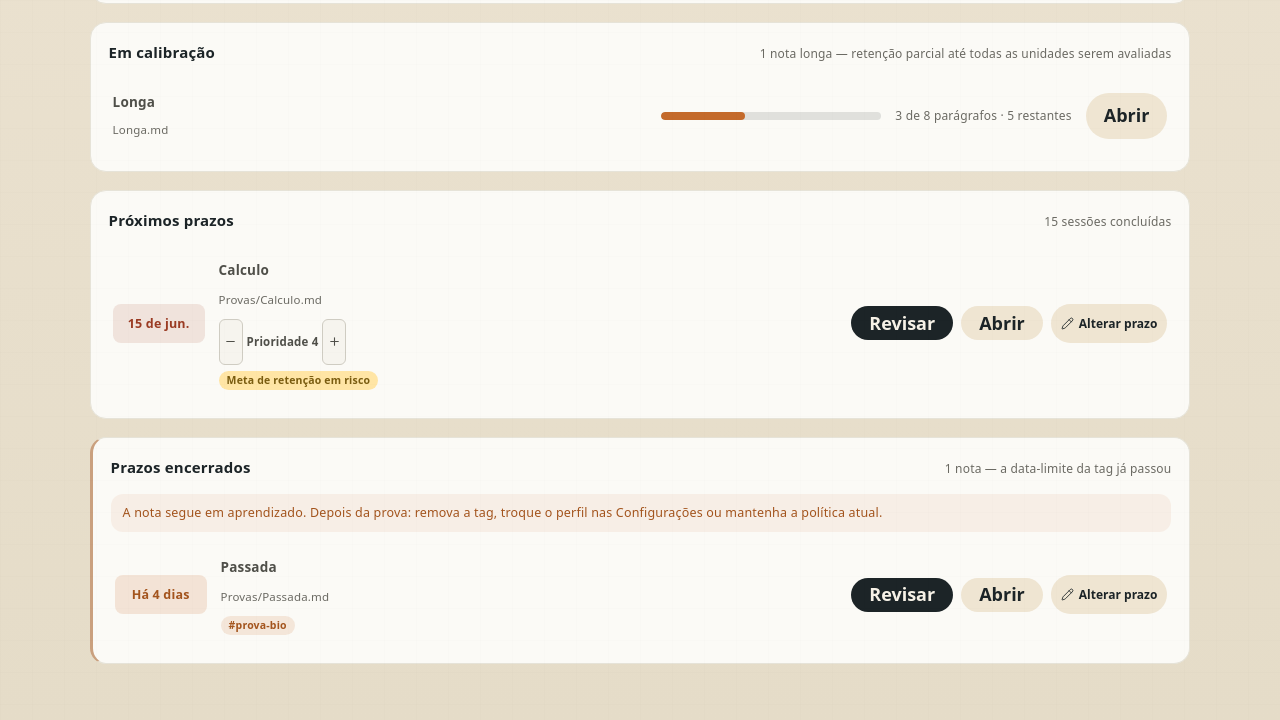
Test: ReviewDashboardPage › opens the deadline dialog from an expired deadline note
(page scrolled)
Click the button with aria-label "Alterar prazo de Passada": x=1109, y=595 left=1051, top=575, right=1167, bottom=614
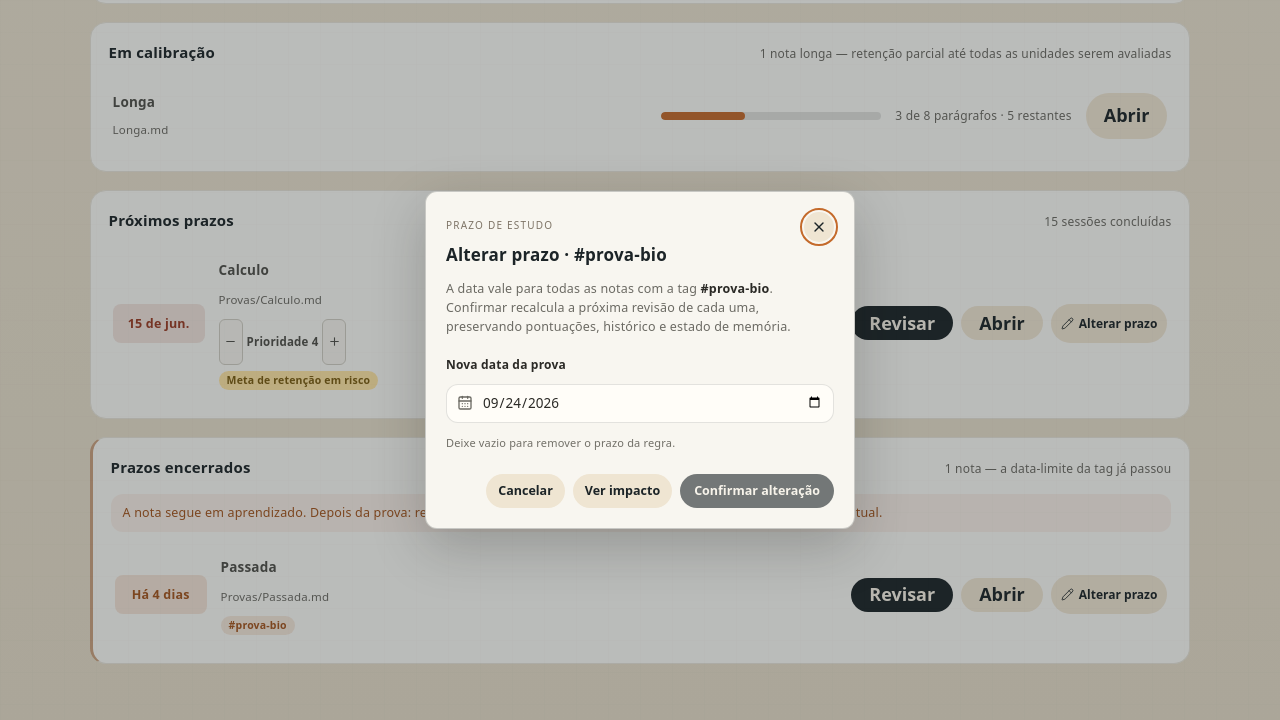
Check: the heading "Alterar prazo · #prova-bio" is shown, box left=446, top=241, right=667, bottom=268
